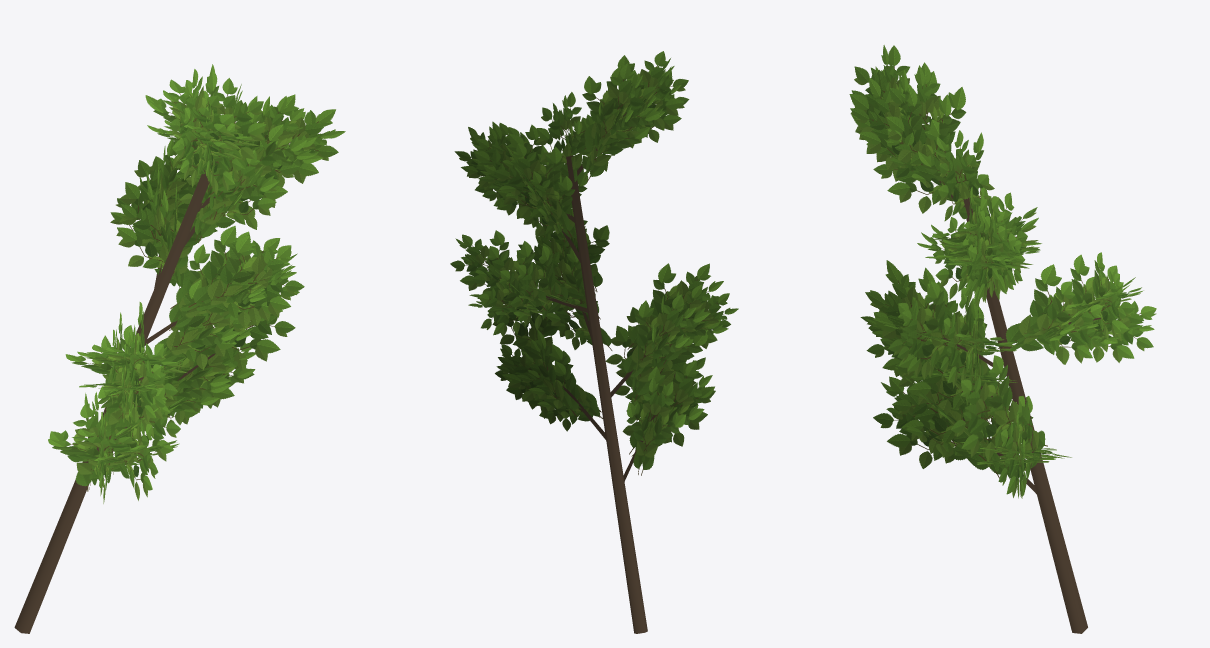
File: Tall Shrub 05.glb
3 renders of one model, left to right at view 1: azimuth 30°, elevation 25°; view 2: azimuth 150°, elevation 25°; view 3: azimuth 270°, elevation 25°, orthographic. The views are drawn at different scales.
Parts seen in each view (by area): view 1: Tall Shrub 05; view 2: Tall Shrub 05; view 3: Tall Shrub 05.
Part boxes in pixels (x1,y1,x2,y2): Tall Shrub 05: (14, 64, 345, 633); Tall Shrub 05: (450, 51, 738, 633); Tall Shrub 05: (849, 45, 1156, 633).
Size of the model in its own units: 1.92 by 3.31 by 1.79.
1 material, 1 textured.
